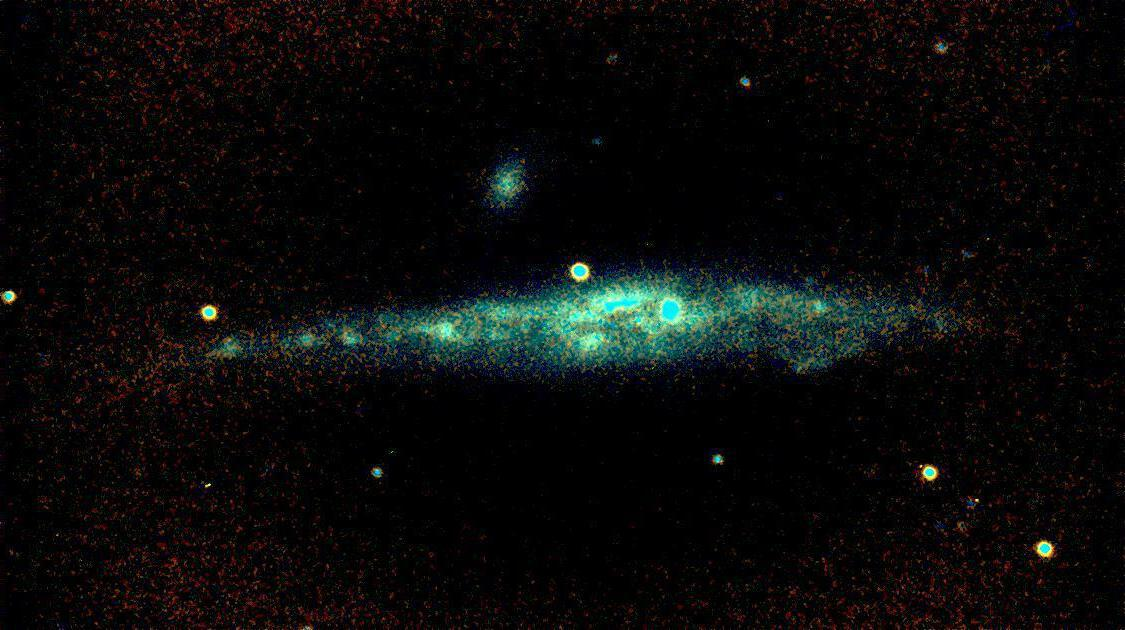star: (195, 469, 225, 499)
